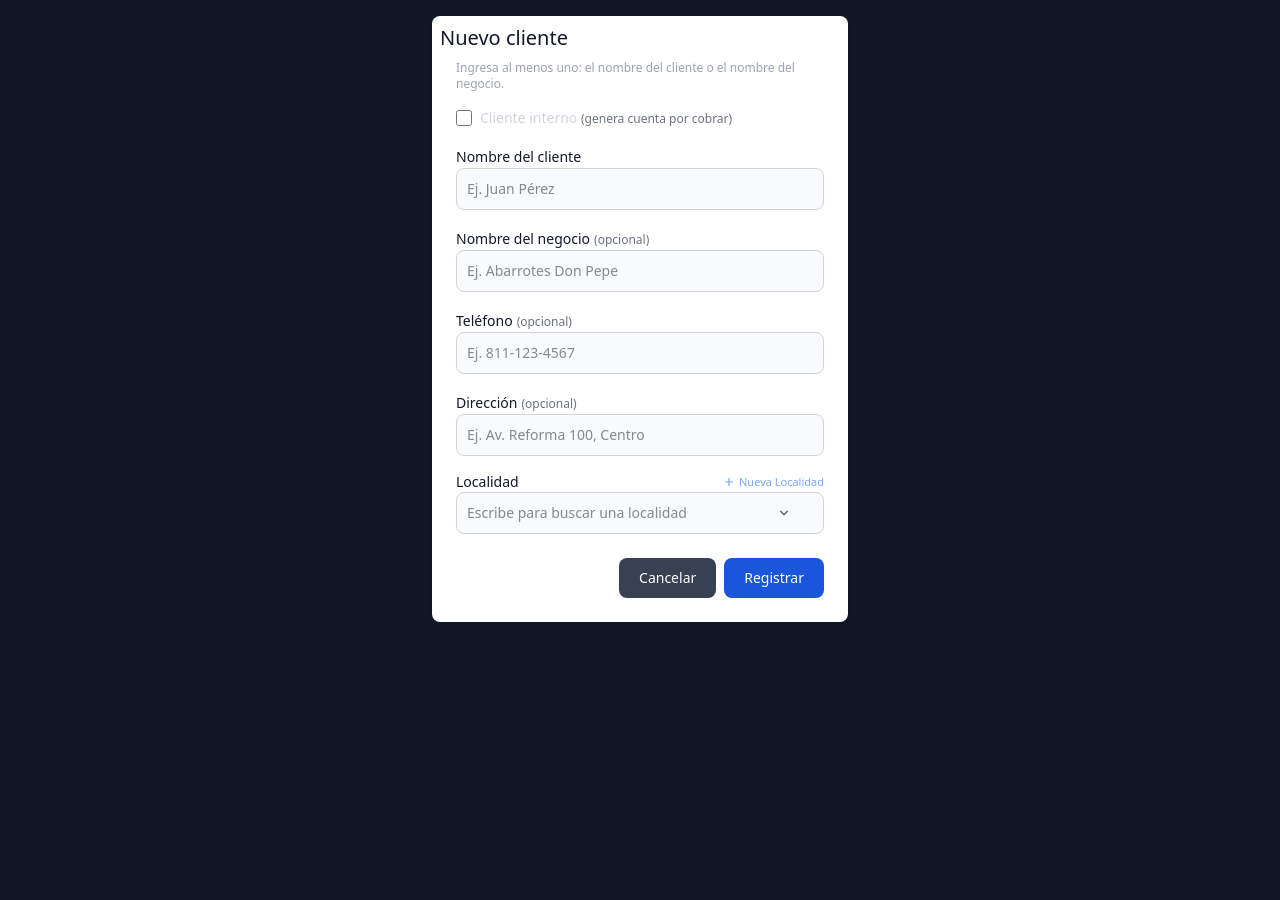
ClientFormModal › muestra el error de localidad duplicada
Click the button "Nueva Localidad" at [774, 482], box [723, 474, 824, 490]
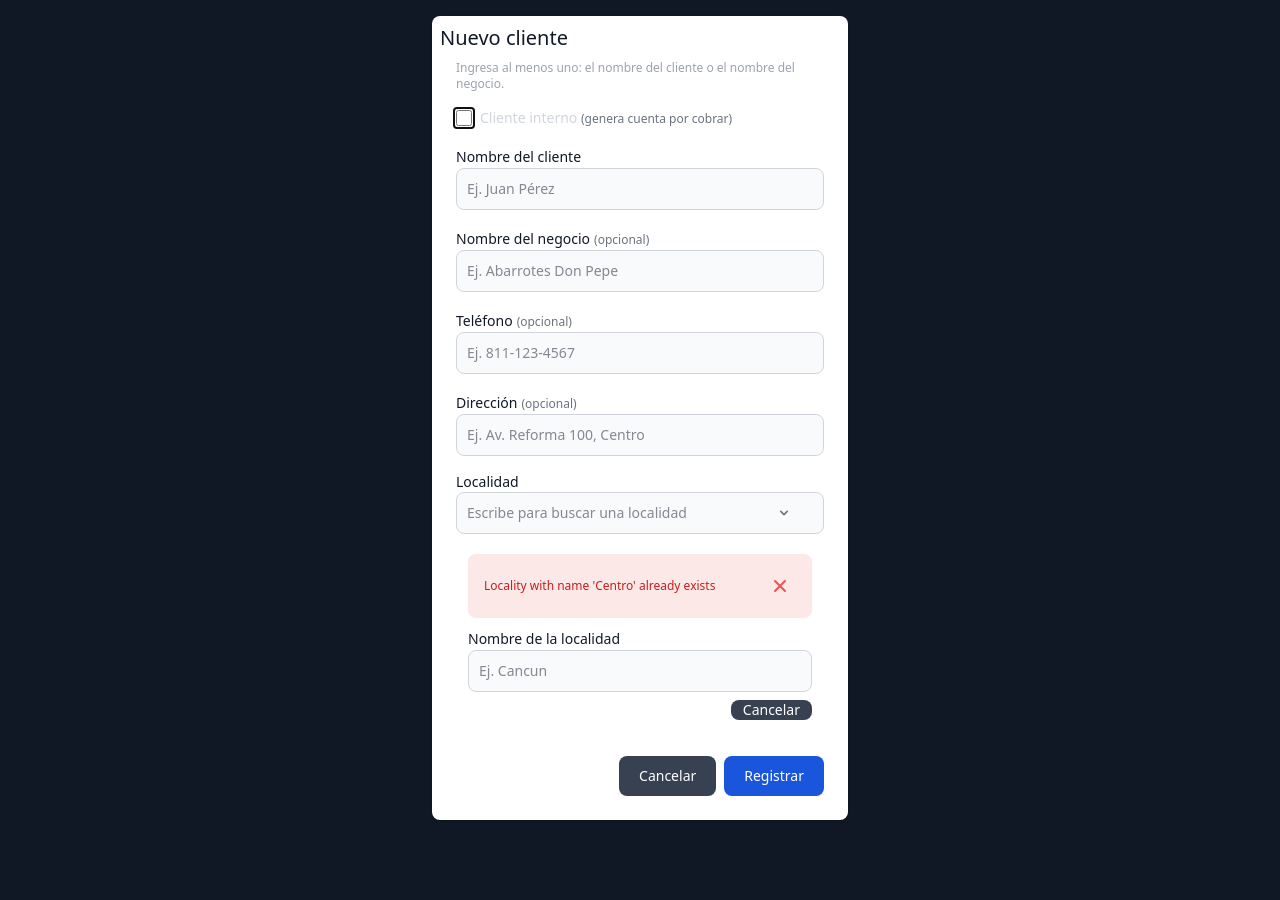
Now the text "Locality with name 'Centro' already exists" is shown, box [484, 578, 715, 594]
